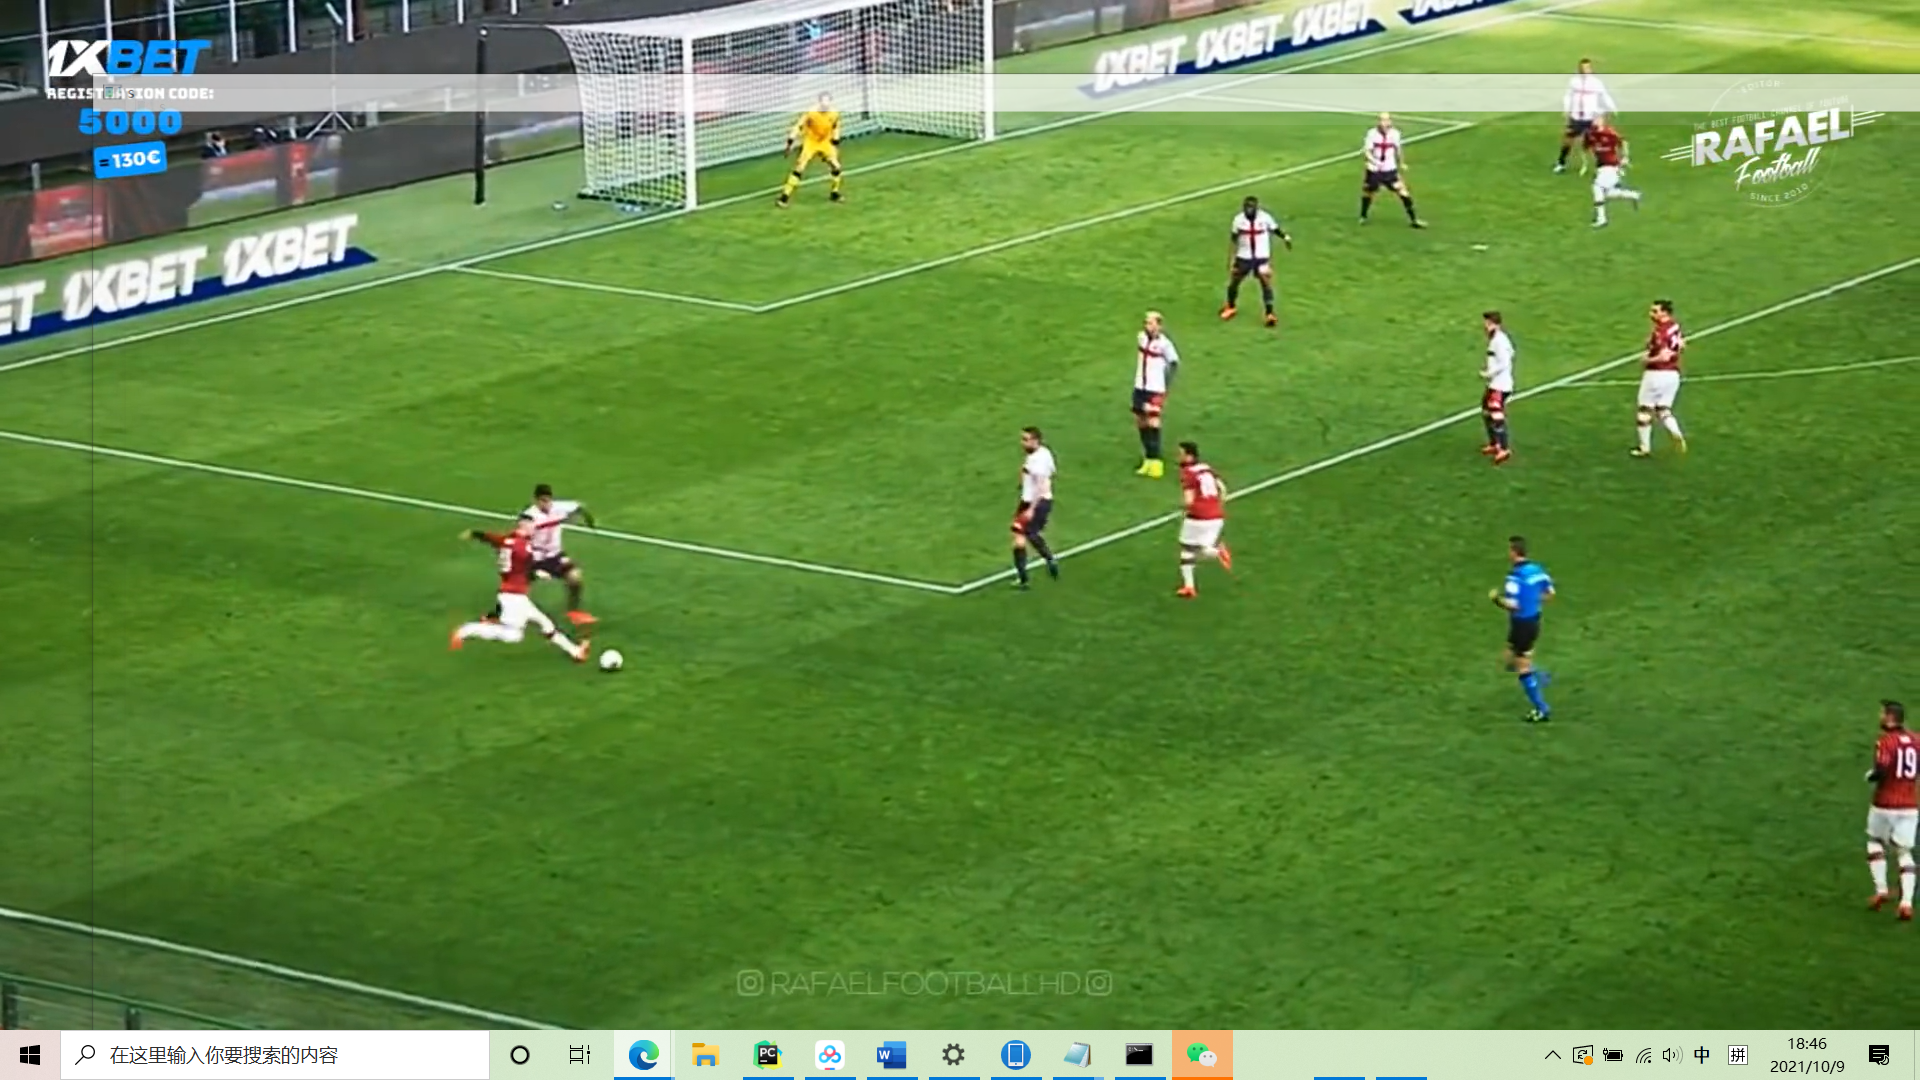ft: (597, 647, 626, 674)
